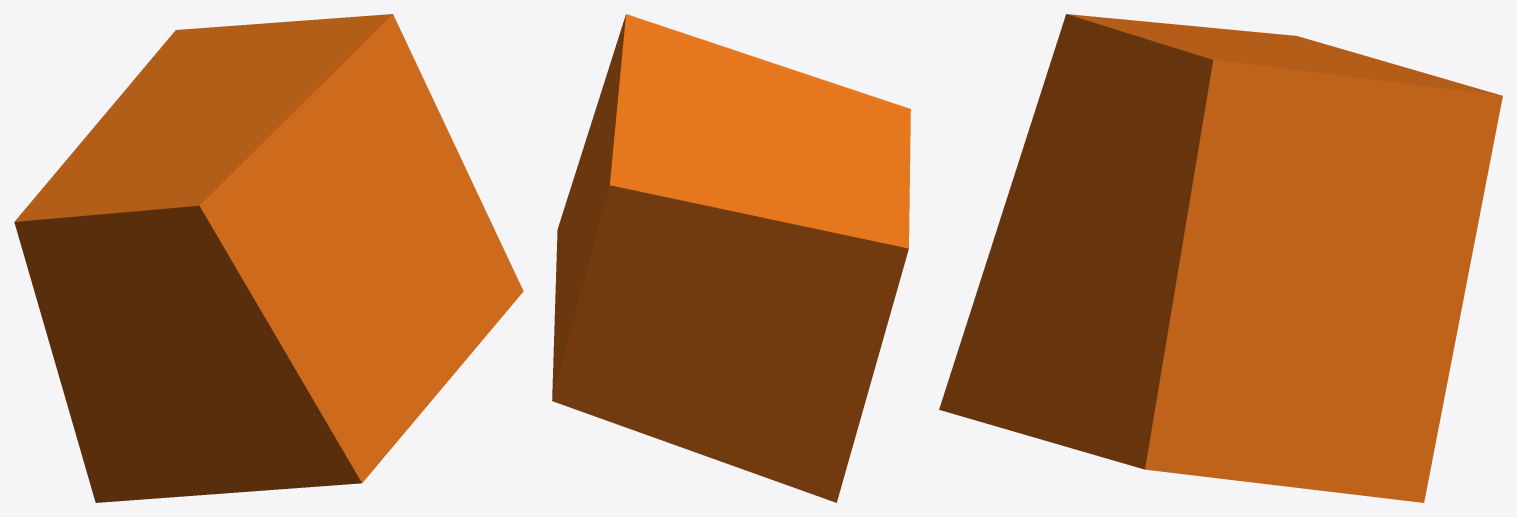
Rendered from lava_brick_01.fbx.
3 renders of one model, left to right at view 1: azimuth 30°, elevation 25°; view 2: azimuth 150°, elevation 25°; view 3: azimuth 270°, elevation 25°, orthographic. The views are drawn at different scales.
Parts seen in each view (by area): view 1: lava_brick_01; view 2: lava_brick_01; view 3: lava_brick_01.
Boxes of the visible parts, left/top/right/bottom form: lava_brick_01: left=14, top=14, right=523, bottom=502; lava_brick_01: left=552, top=14, right=910, bottom=502; lava_brick_01: left=939, top=14, right=1502, bottom=502.
Bounding box in the file's own units: 137 × 131 × 121.
